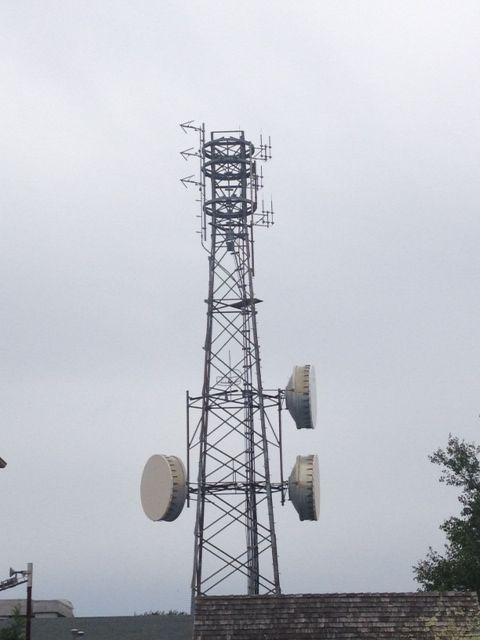ba: (269, 356, 327, 442), (140, 443, 188, 537), (279, 445, 327, 526)
